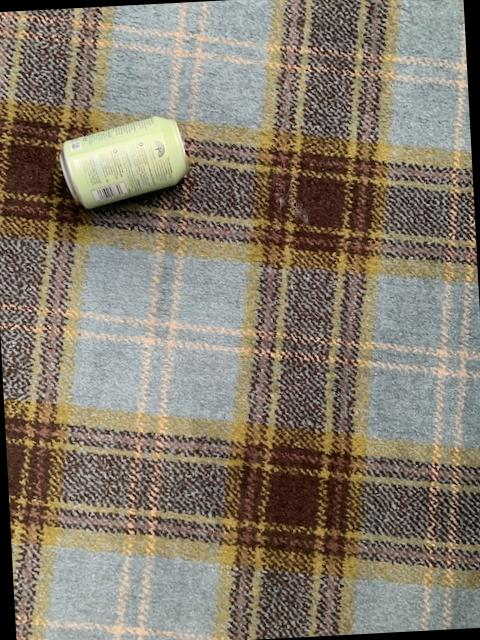metal: (59, 116, 186, 207)
